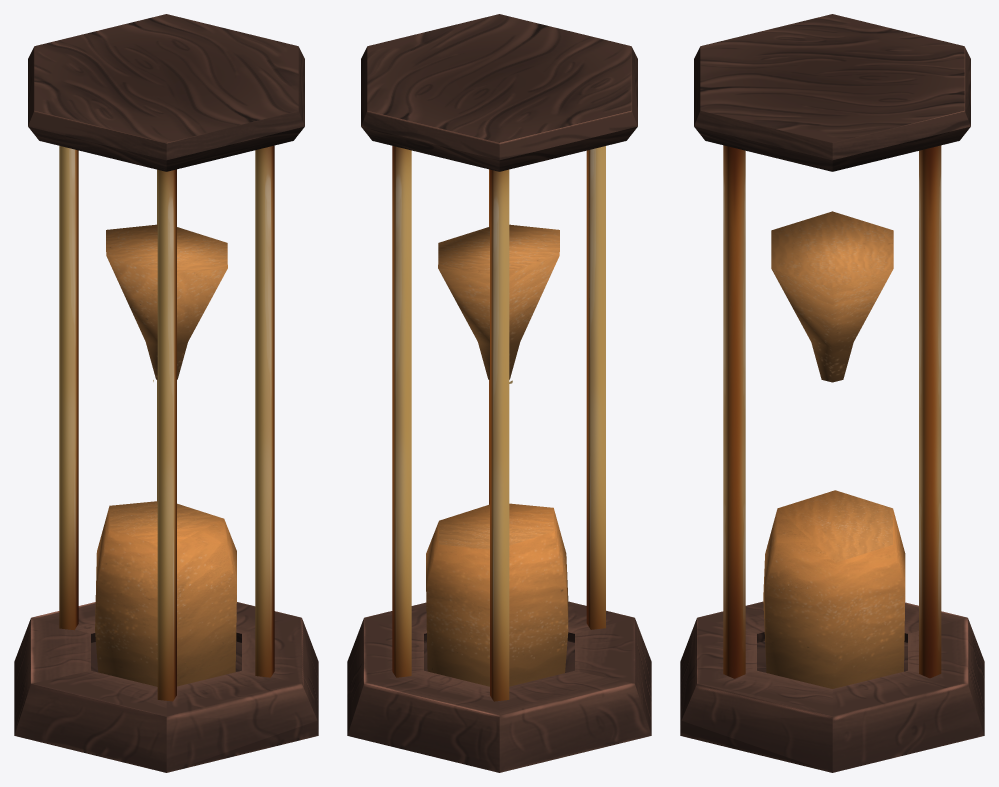
The model's file is hourglass.FBX.
3 renders of one model, left to right at view 1: azimuth 30°, elevation 25°; view 2: azimuth 150°, elevation 25°; view 3: azimuth 270°, elevation 25°, orthographic.
Parts seen in each view (by area): view 1: sablier corps, sable bas, sable haut; view 2: sablier corps, sable bas, sable haut; view 3: sablier corps, sable bas, sable haut.
Part boxes in pixels (x1,y1,x2,y2): sablier corps: (14, 14, 318, 772); sable bas: (95, 501, 236, 686); sable haut: (106, 224, 227, 379); sablier corps: (347, 14, 651, 772); sable bas: (426, 503, 568, 686); sable haut: (438, 224, 559, 379); sablier corps: (680, 14, 984, 772); sable bas: (763, 490, 905, 688); sable haut: (771, 211, 893, 382).
Size of the model in its own units: 21.71 by 42.29 by 18.8.
